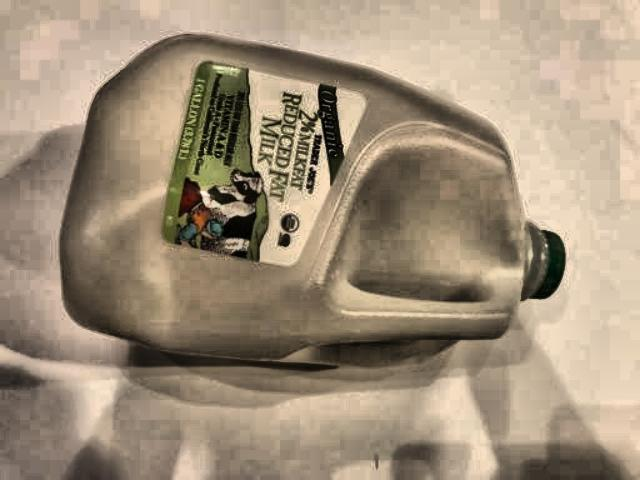Plastic: (0, 14, 638, 478)
